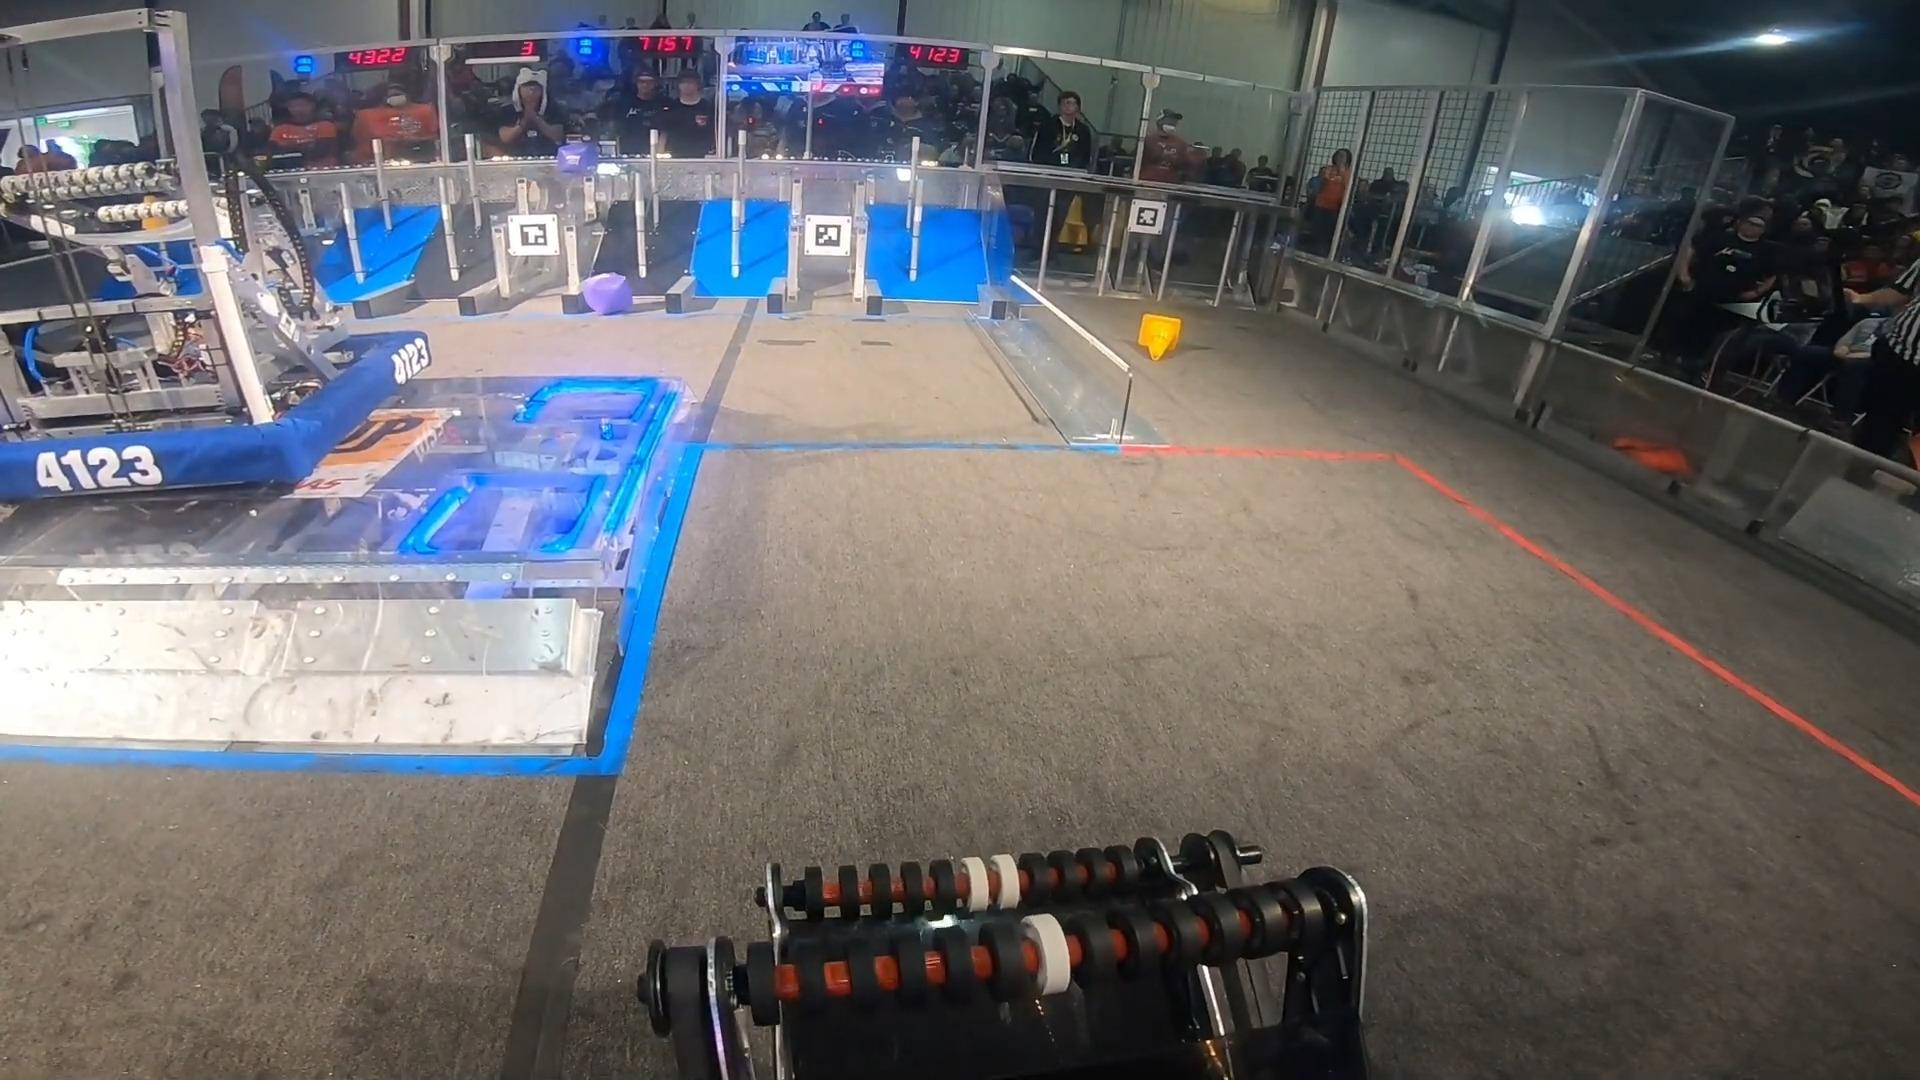robot: (0, 1, 431, 505)
